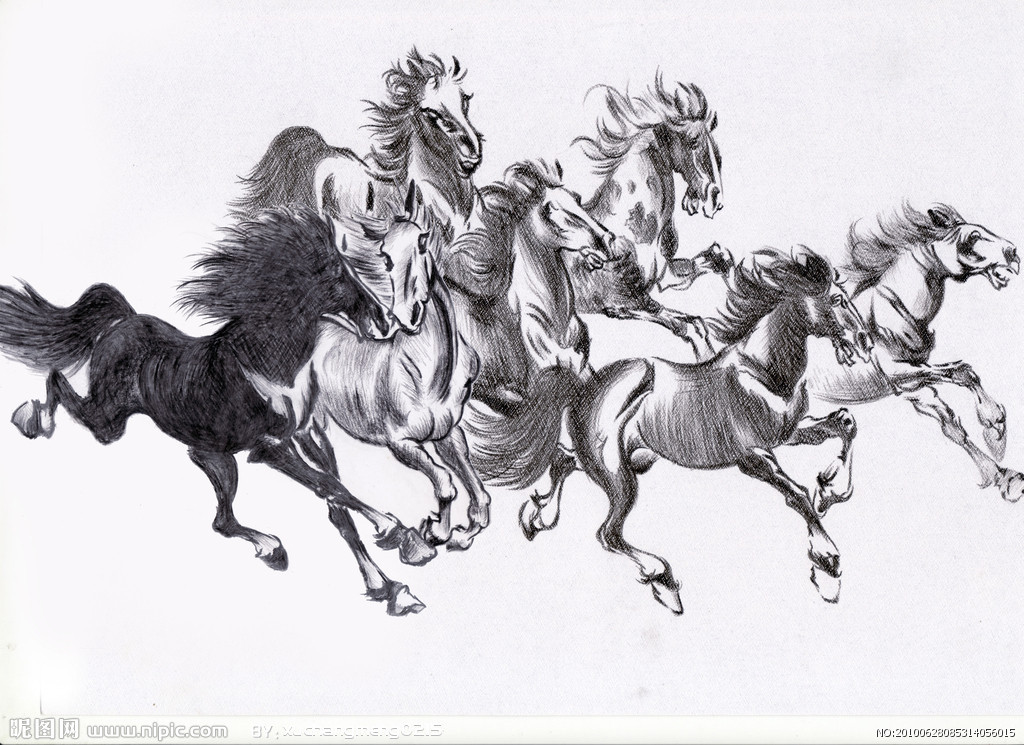background: (13, 91, 501, 624)
